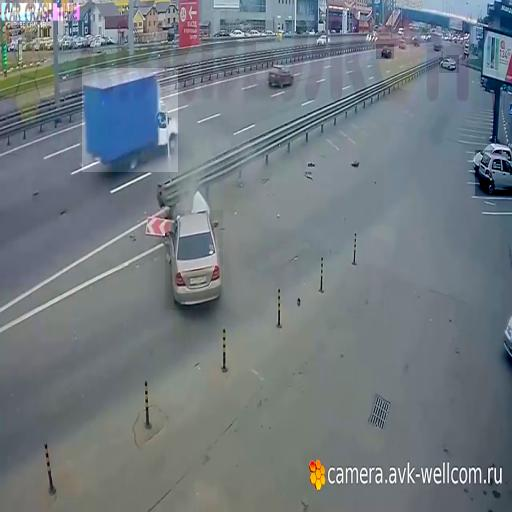小汽车: (82, 68, 178, 172), (166, 210, 224, 310), (475, 150, 512, 196), (265, 61, 295, 90), (429, 29, 446, 57), (439, 55, 459, 73), (376, 44, 394, 59), (396, 34, 410, 52), (315, 31, 330, 47)
